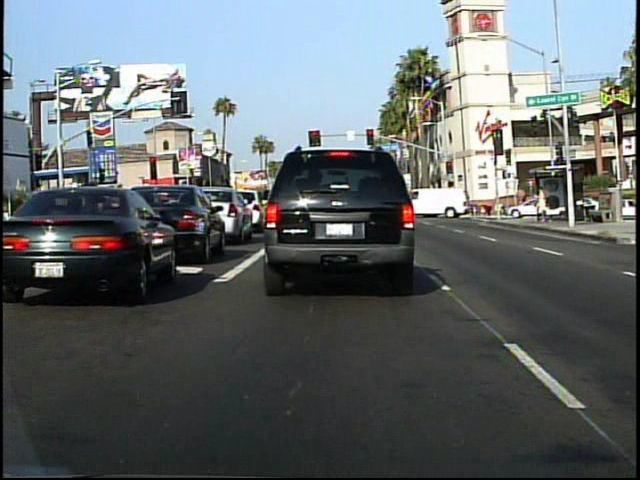person: (533, 183, 551, 225)
